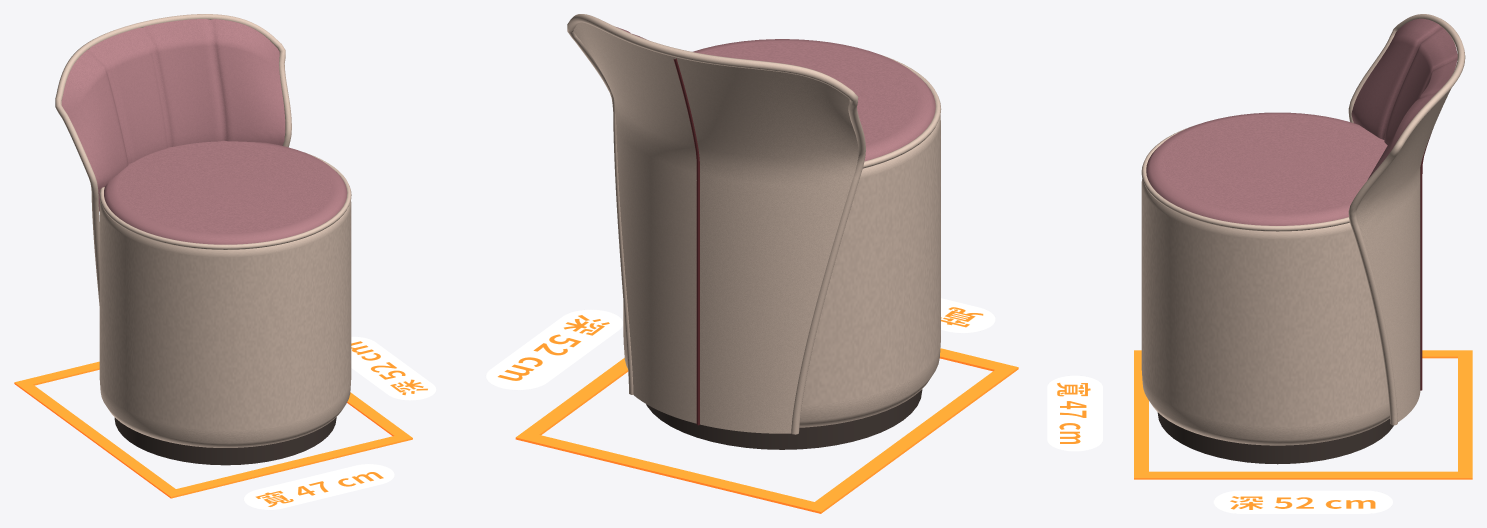
File: ownPuff-f.glb
3 renders of one model, left to right at view 1: azimuth 30°, elevation 25°; view 2: azimuth 150°, elevation 25°; view 3: azimuth 270°, elevation 25°, orthographic. The views are drawn at different scales.
Visible parts, largest first — view 1: object 6, object 10, object 7, ar-frame, object 11, object 1, object 8; view 2: object 9, object 6, ar-frame, object 7, object 11, object 1, object 12, object 8; view 3: object 6, object 7, ar-frame, object 9, object 10, object 11, object 1, object 8, object 12.
Boxes of the visible parts, left/top/right/bottom form: object 6: left=99, top=200, right=351, bottom=447; object 10: left=61, top=19, right=285, bottom=211; object 7: left=104, top=140, right=347, bottom=244; ar-frame: left=14, top=336, right=436, bottom=509; object 11: left=55, top=14, right=291, bottom=305; object 1: left=114, top=417, right=336, bottom=465; object 8: left=99, top=152, right=351, bottom=249; object 9: left=573, top=22, right=858, bottom=433; object 6: left=623, top=115, right=940, bottom=427; ar-frame: left=486, top=298, right=1018, bottom=513; object 7: left=692, top=39, right=935, bottom=161; object 11: left=567, top=14, right=865, bottom=434; object 1: left=646, top=389, right=922, bottom=449; object 12: left=673, top=58, right=699, bottom=425; object 8: left=863, top=55, right=941, bottom=168; object 6: left=1141, top=179, right=1389, bottom=445; object 7: left=1146, top=112, right=1387, bottom=225; ar-frame: left=1047, top=350, right=1472, bottom=513; object 9: left=1356, top=88, right=1451, bottom=421; object 10: left=1351, top=18, right=1457, bottom=179; object 11: left=1348, top=14, right=1465, bottom=425; object 1: left=1157, top=412, right=1393, bottom=464; object 8: left=1141, top=126, right=1349, bottom=231; object 12: left=1420, top=133, right=1431, bottom=390.
Size of the model in its own units: 0.6291 by 0.6481 by 0.6884.
Materials: 8 (4 with a texture image).
